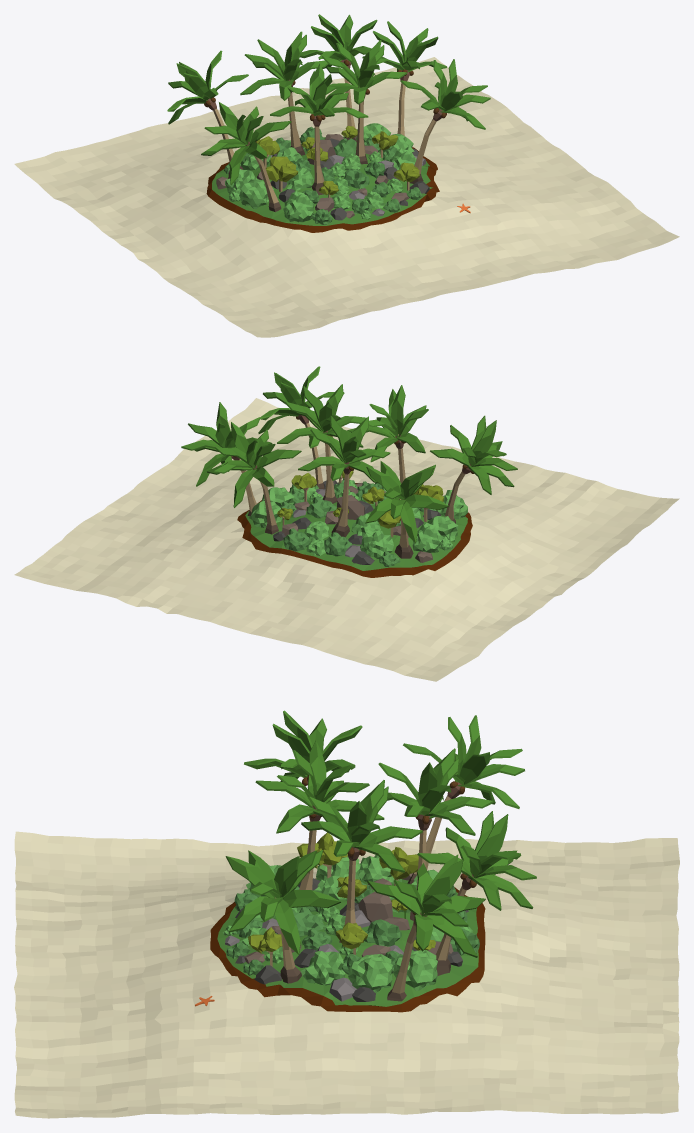
File: island.glb
The picture shows the model from 3 angles, top to bottom: view 1: azimuth 30°, elevation 25°; view 2: azimuth 150°, elevation 25°; view 3: azimuth 270°, elevation 25°; orthographic projection. The views are drawn at different scales.
Parts seen in each view (by area): view 1: Plane.001, Palmtree.001, Palmtree.005, Palmtree.006, Palmtree.004, Palmtree.003, Palmtree.000, Palmtree.007, Palmtree.002, Icosphere, Icosphere.001, Tree.004; view 2: Plane.001, Palmtree.000, Palmtree.002, Palmtree.001, Palmtree.005, Palmtree.004, Palmtree.006, Palmtree.007, Palmtree.003, Icosphere.006, Icosphere.003, Icosphere.007 (+2 smaller); view 3: Plane.001, Palmtree.003, Palmtree.007, Palmtree.002, Palmtree.004, Palmtree.006, Palmtree.005, Palmtree.000, Palmtree.001, Icosphere.005, Icosphere.007, Icosphere.004 (+6 smaller).
Boxes of the visible parts, x1,y1,x2,y2 form: Plane.001: (14,57,679,337); Palmtree.001: (201,102,291,211); Palmtree.005: (240,31,328,155); Palmtree.006: (270,63,368,195); Palmtree.004: (322,40,407,164); Palmtree.003: (400,59,490,183); Palmtree.000: (167,50,248,178); Palmtree.007: (362,21,446,135); Palmtree.002: (300,14,377,141); Icosphere: (283,191,314,222); Icosphere.001: (239,179,273,208); Tree.004: (265,156,298,191); Plane.001: (14,398,679,681); Palmtree.000: (365,461,448,558); Palmtree.002: (207,422,301,534); Palmtree.001: (430,415,517,523); Palmtree.005: (298,415,390,537); Palmtree.004: (277,384,366,503); Palmtree.006: (347,385,428,483); Palmtree.007: (181,402,272,516); Palmtree.003: (258,366,344,489); Icosphere.006: (360,529,393,558); Icosphere.003: (412,522,443,552); Icosphere.007: (249,501,282,527); Plane.001: (14,831,679,1118); Palmtree.003: (225,850,340,983); Palmtree.007: (367,854,485,1001); Palmtree.002: (417,811,536,975); Palmtree.004: (301,780,422,942); Palmtree.006: (255,740,384,889); Palmtree.005: (378,748,493,920); Palmtree.000: (403,715,524,883); Palmtree.001: (244,710,362,843); Icosphere.005: (348,954,392,993); Icosphere.007: (393,950,437,990); Icosphere.004: (300,951,345,985).
Size of the model in its own units: 32.54 by 11.67 by 32.53.
